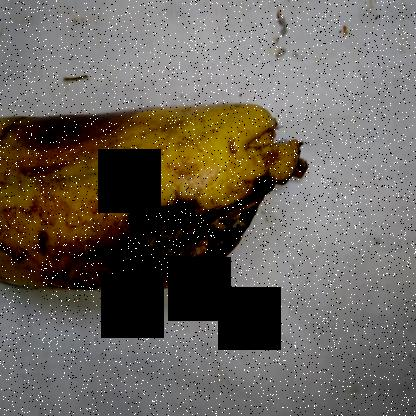ripe: (0, 85, 304, 209), (0, 179, 106, 316)
rotten: (56, 162, 263, 328), (0, 55, 128, 181)
